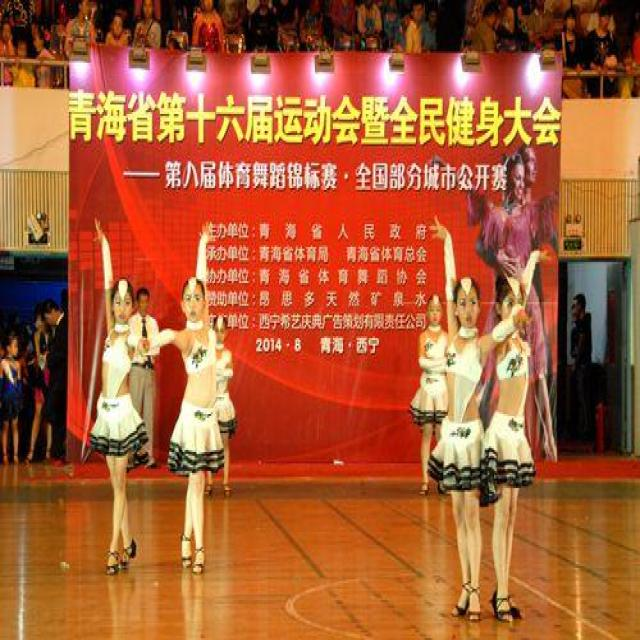non-fight: (427, 211, 495, 630), (478, 246, 546, 619), (161, 272, 233, 574), (91, 278, 156, 578), (409, 293, 450, 500), (40, 295, 67, 465), (27, 308, 53, 462), (569, 294, 593, 444), (0, 331, 24, 462), (15, 326, 38, 461), (584, 5, 618, 96), (558, 11, 589, 98), (64, 0, 97, 58), (468, 2, 498, 53), (132, 1, 162, 49), (32, 31, 57, 88), (401, 1, 428, 53), (356, 0, 383, 52), (615, 46, 638, 97), (0, 20, 18, 84), (105, 13, 130, 47)
